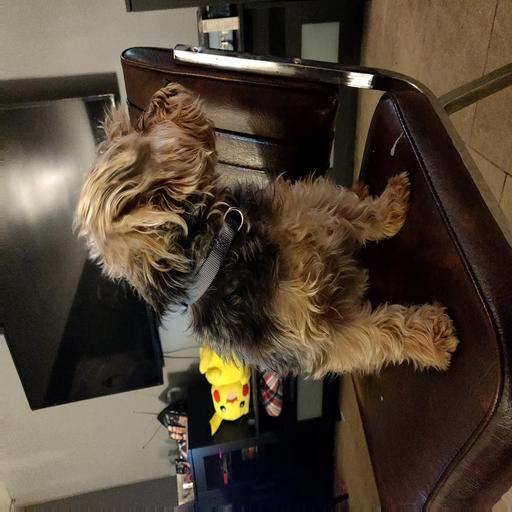dog: (69, 54, 469, 454)
